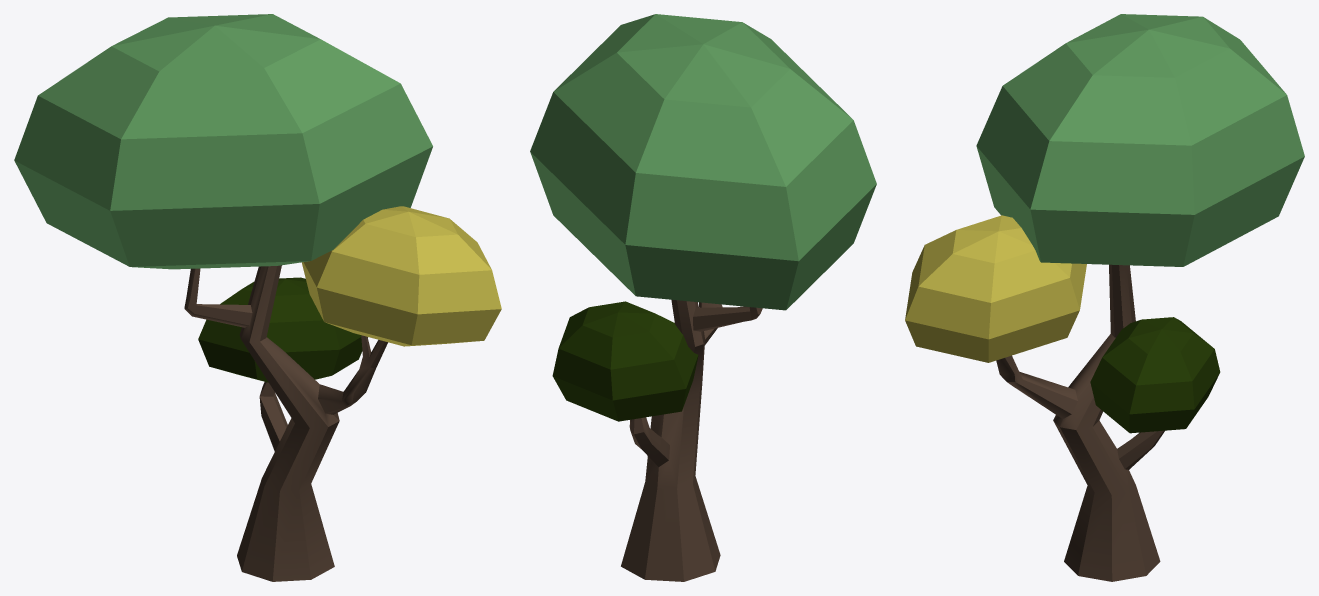
The model's file is tree7.fbx.
3 views of the same model, side by side, from view 1: azimuth 30°, elevation 25°; view 2: azimuth 150°, elevation 25°; view 3: azimuth 270°, elevation 25° (orthographic). The views are drawn at different scales.
Visible parts, largest first — view 1: GrandFeuillage, MoyenFeuillage, TroncArbre, PetitFeuillage; view 2: GrandFeuillage, TroncArbre, PetitFeuillage; view 3: GrandFeuillage, MoyenFeuillage, TroncArbre, PetitFeuillage.
Part boxes in pixels (bbox=[...]): GrandFeuillage: bbox=[14, 14, 432, 269]; MoyenFeuillage: bbox=[301, 206, 501, 346]; TroncArbre: bbox=[184, 265, 387, 581]; PetitFeuillage: bbox=[198, 277, 367, 382]; GrandFeuillage: bbox=[530, 14, 876, 310]; TroncArbre: bbox=[621, 299, 762, 581]; PetitFeuillage: bbox=[552, 301, 698, 421]; GrandFeuillage: bbox=[976, 14, 1304, 266]; MoyenFeuillage: bbox=[905, 215, 1086, 362]; TroncArbre: bbox=[996, 264, 1164, 581]; PetitFeuillage: bbox=[1090, 317, 1220, 433].
Size of the model in its own units: 54.62 by 83.68 by 59.71.
